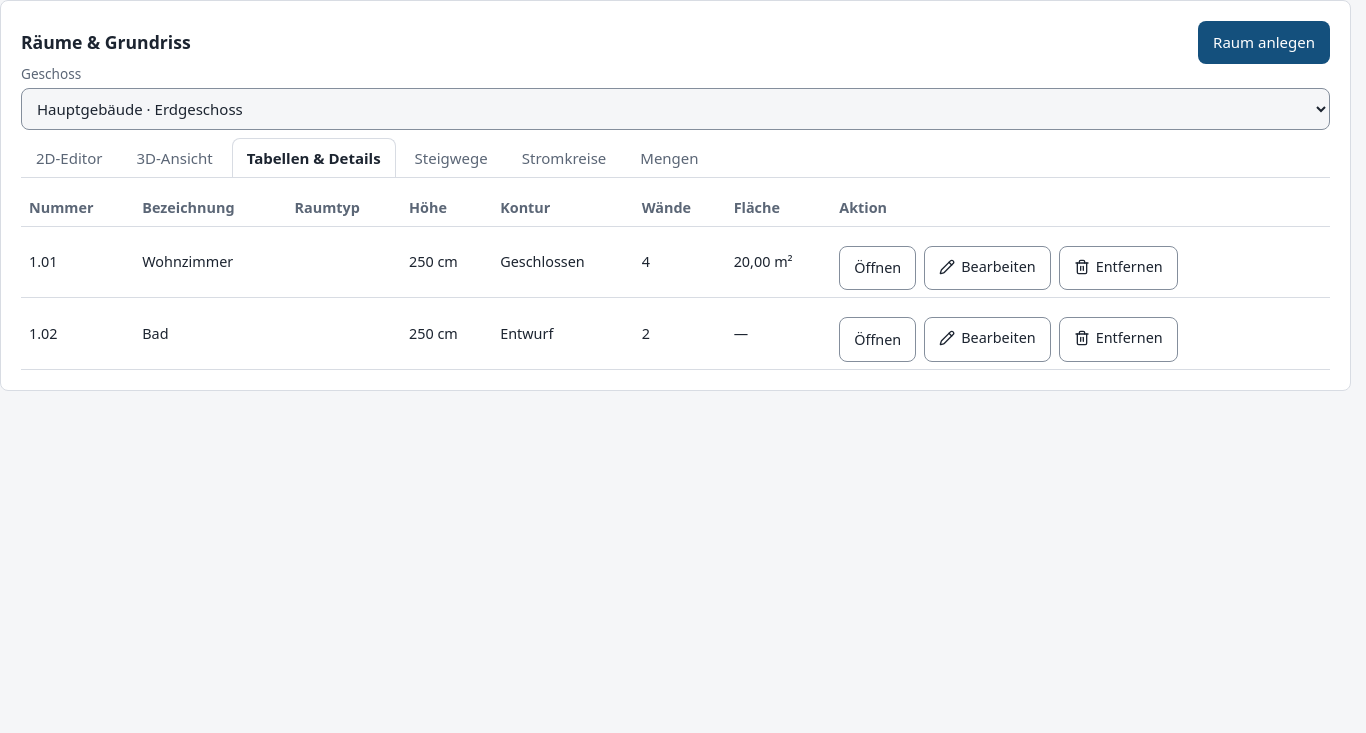
Scenario: Raum öffnen › lehnt Zentimeter mit zwei Nachkommastellen verständlich ab
Expected: the text "Wohnzimmer" is shown, x1=134 y1=226 x2=287 y2=298
Click the button with aria-label "Raum Wohnzimmer öffnen" at (878, 268), box x1=839 y1=246 x2=916 y2=290
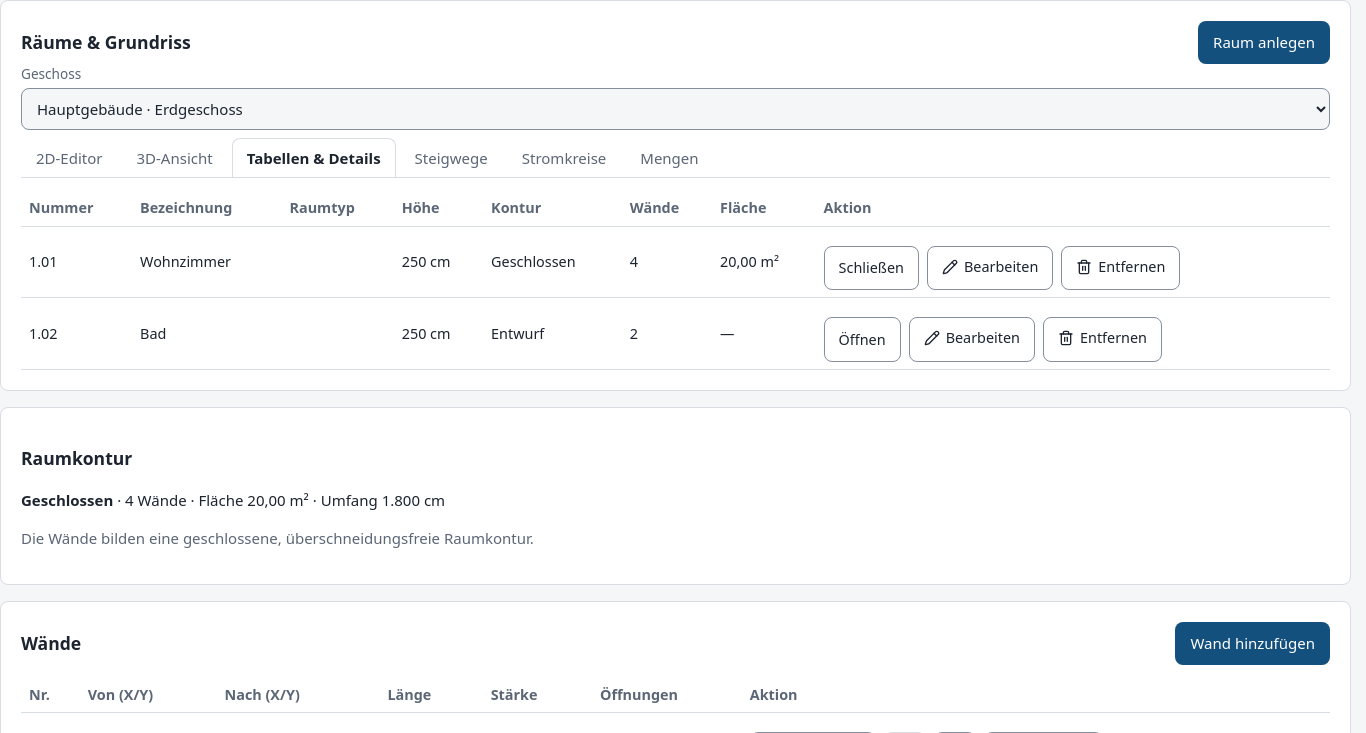
Expected: the heading "Raumkontur" is shown, x1=21 y1=446 x2=132 y2=470
Click the button "Wand hinzufügen" at (1253, 643), box x1=1175 y1=622 x2=1330 y2=665
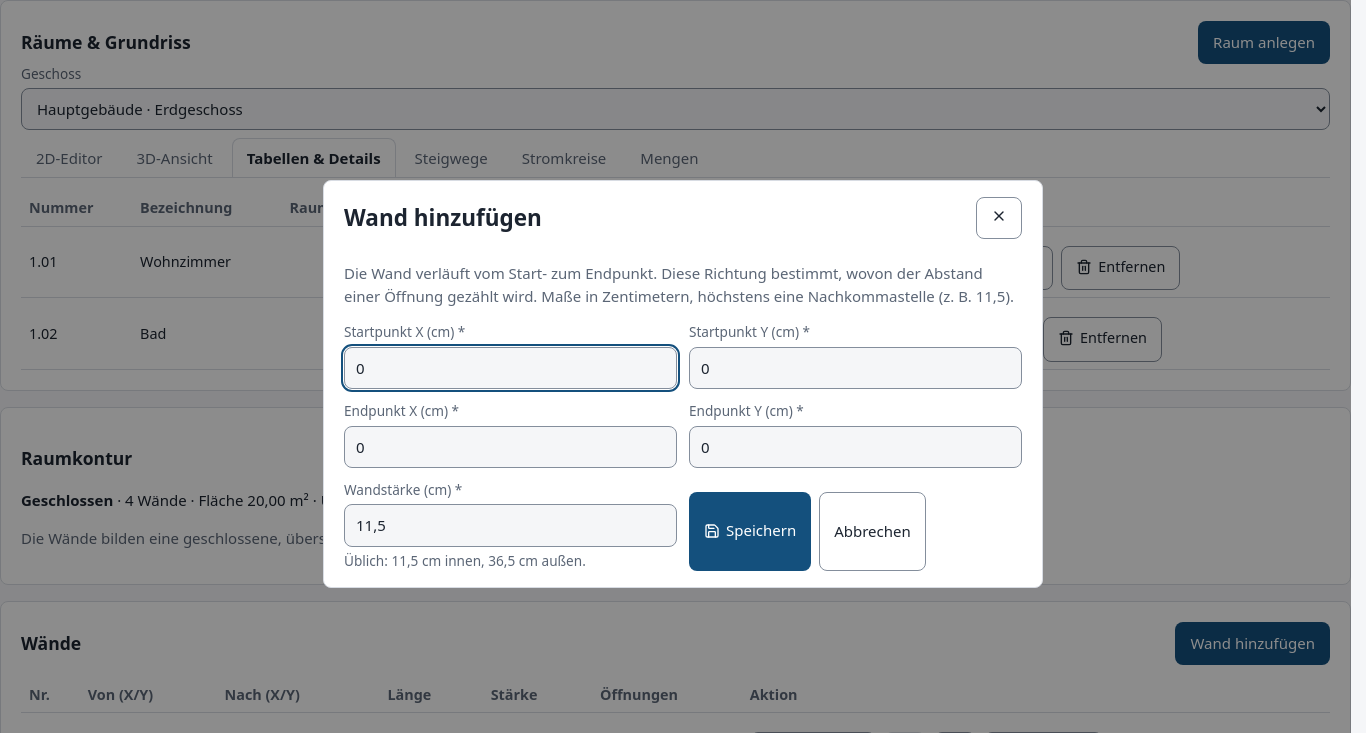
Replace the text in the field labelled "Endpunkt X (cm) *" with "500,25" at (510, 447), box x1=344 y1=426 x2=677 y2=468
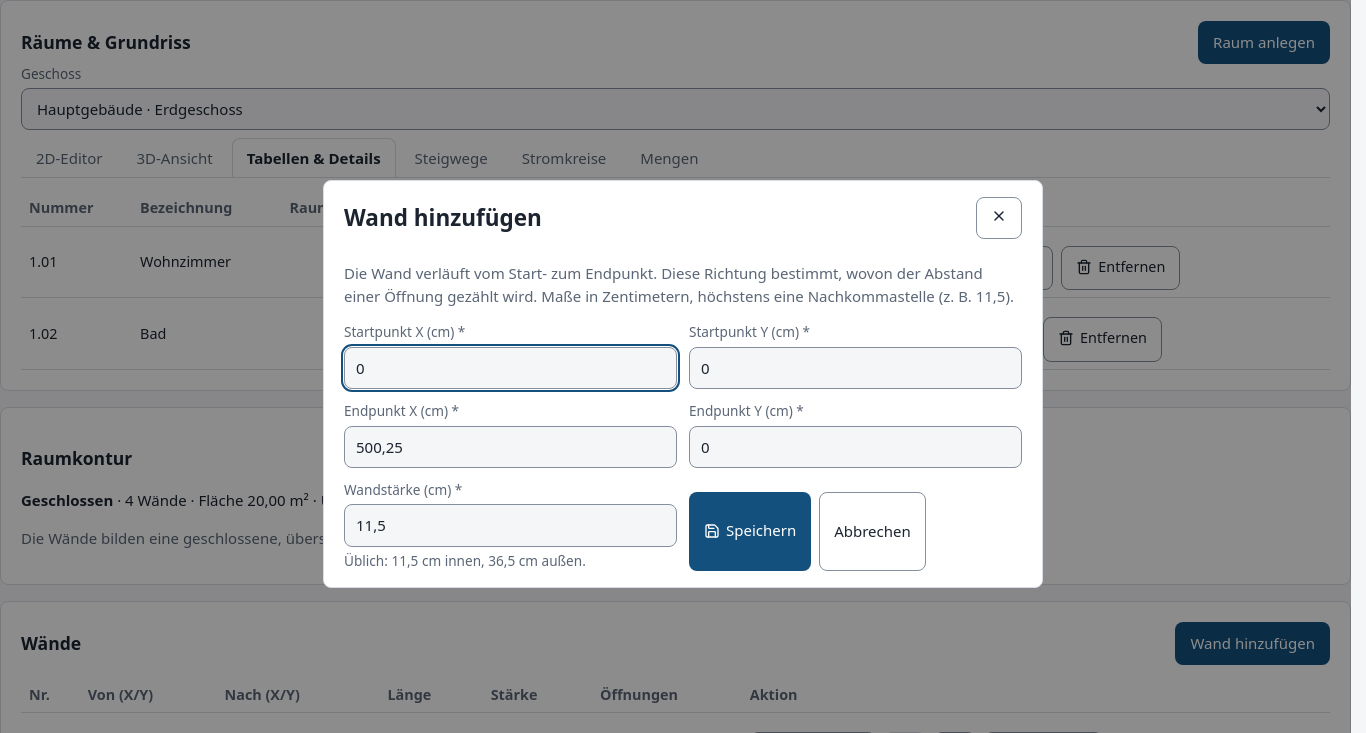
Click the button "Speichern" at (750, 532), box x1=689 y1=492 x2=811 y2=571
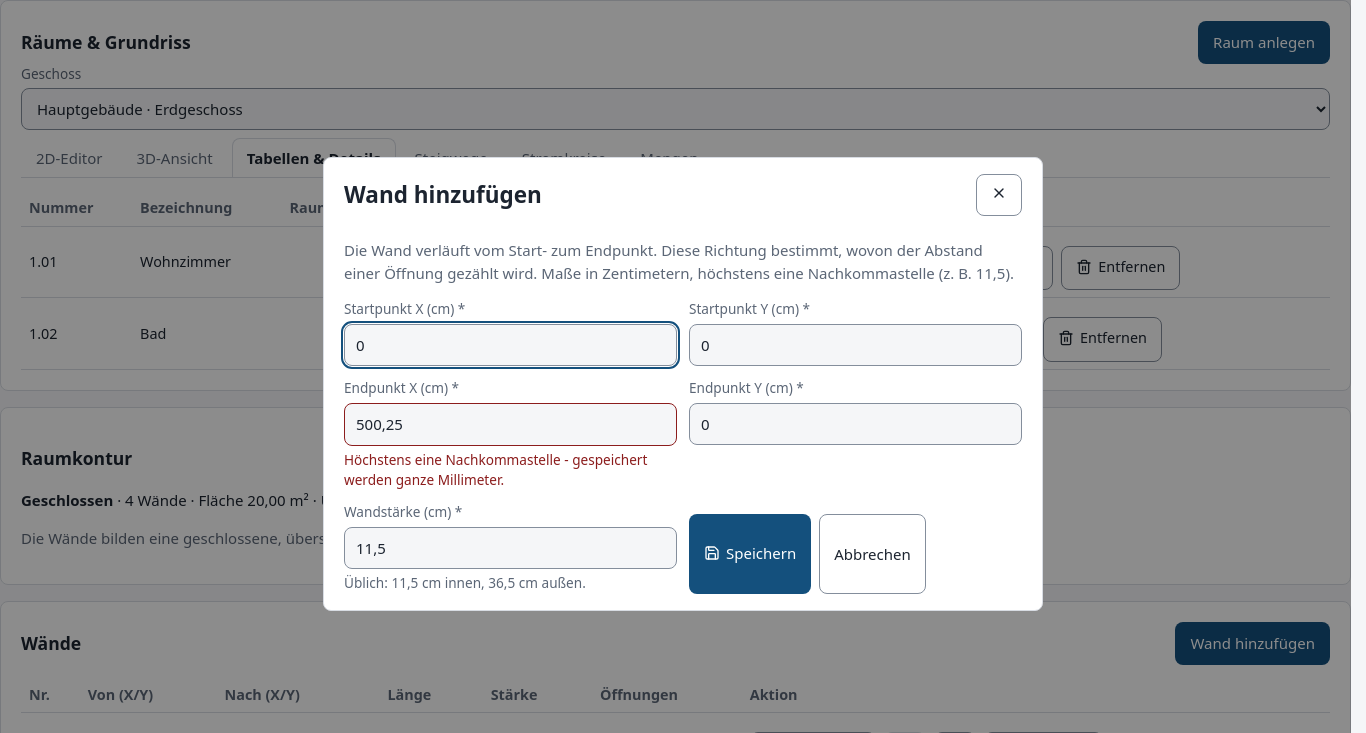
Expected: the text "Höchstens eine Nachkommastelle - gespeichert werden ganze Millimeter." is shown, x1=344 y1=450 x2=677 y2=490
